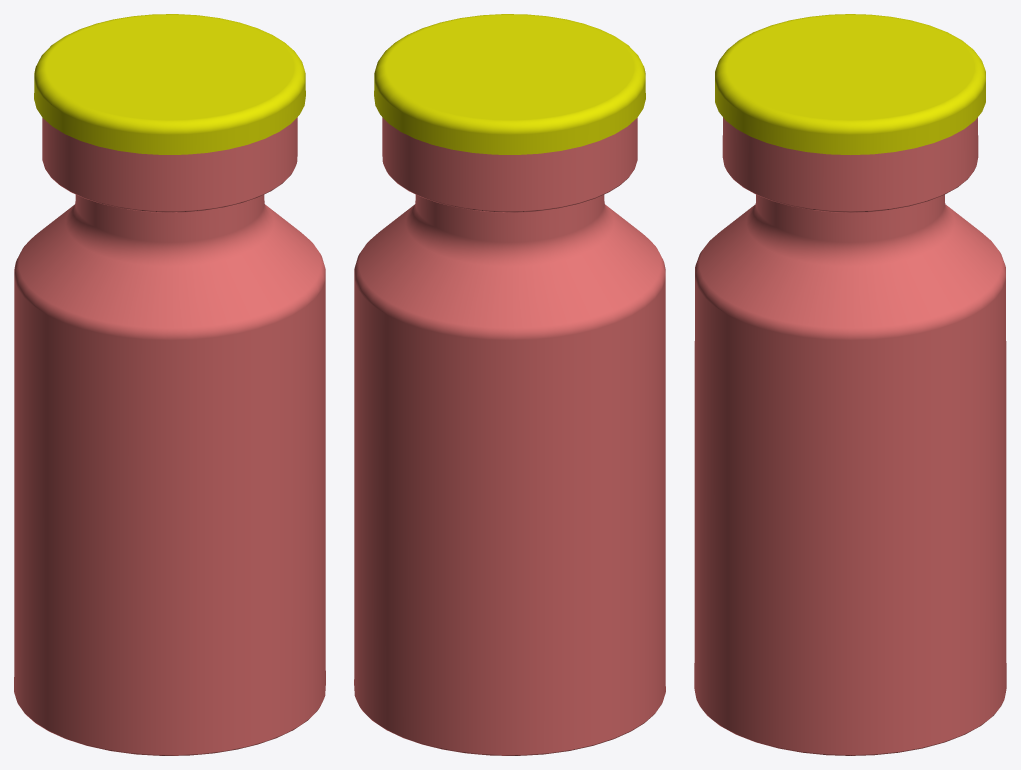
The model's file is o_ibuprofen.obj.
3 renders of one model, left to right at view 1: azimuth 30°, elevation 25°; view 2: azimuth 150°, elevation 25°; view 3: azimuth 270°, elevation 25°, orthographic.
Parts seen in each view (by area): view 1: vaccine-1-solid1, vaccine-1-solid3, vaccine-1-solid4; view 2: vaccine-1-solid1, vaccine-1-solid3, vaccine-1-solid4; view 3: vaccine-1-solid1, vaccine-1-solid3, vaccine-1-solid4.
Boxes of the visible parts, x1=… form: vaccine-1-solid1: x1=14, y1=194, x2=325, y2=755; vaccine-1-solid3: x1=34, y1=14, x2=305, y2=154; vaccine-1-solid4: x1=42, y1=117, x2=297, y2=212; vaccine-1-solid1: x1=354, y1=194, x2=665, y2=755; vaccine-1-solid3: x1=374, y1=14, x2=645, y2=154; vaccine-1-solid4: x1=382, y1=117, x2=637, y2=212; vaccine-1-solid1: x1=694, y1=194, x2=1006, y2=755; vaccine-1-solid3: x1=715, y1=14, x2=985, y2=154; vaccine-1-solid4: x1=722, y1=117, x2=978, y2=212.
Size of the model in its own units: 0.0244 by 0.0538 by 0.0244.
